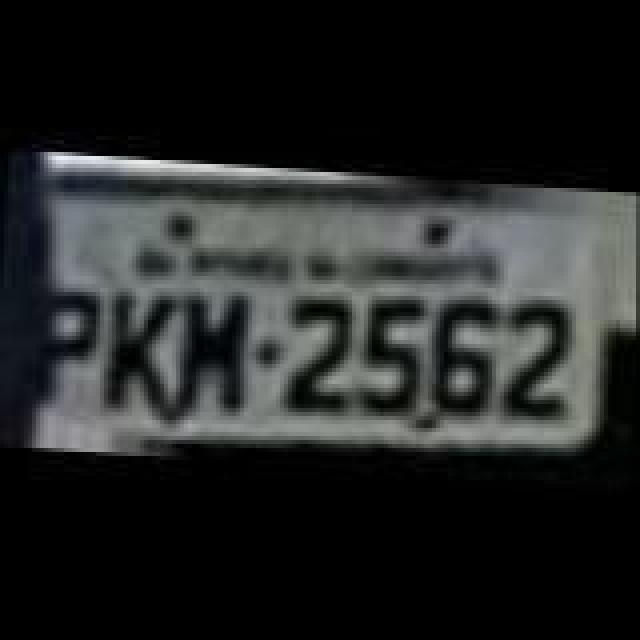2: (278, 294, 358, 418), (500, 302, 576, 426)
5: (356, 298, 432, 422)
6: (428, 298, 504, 422)
K: (108, 288, 184, 416)
M: (180, 296, 256, 424)
P: (32, 290, 108, 414)
